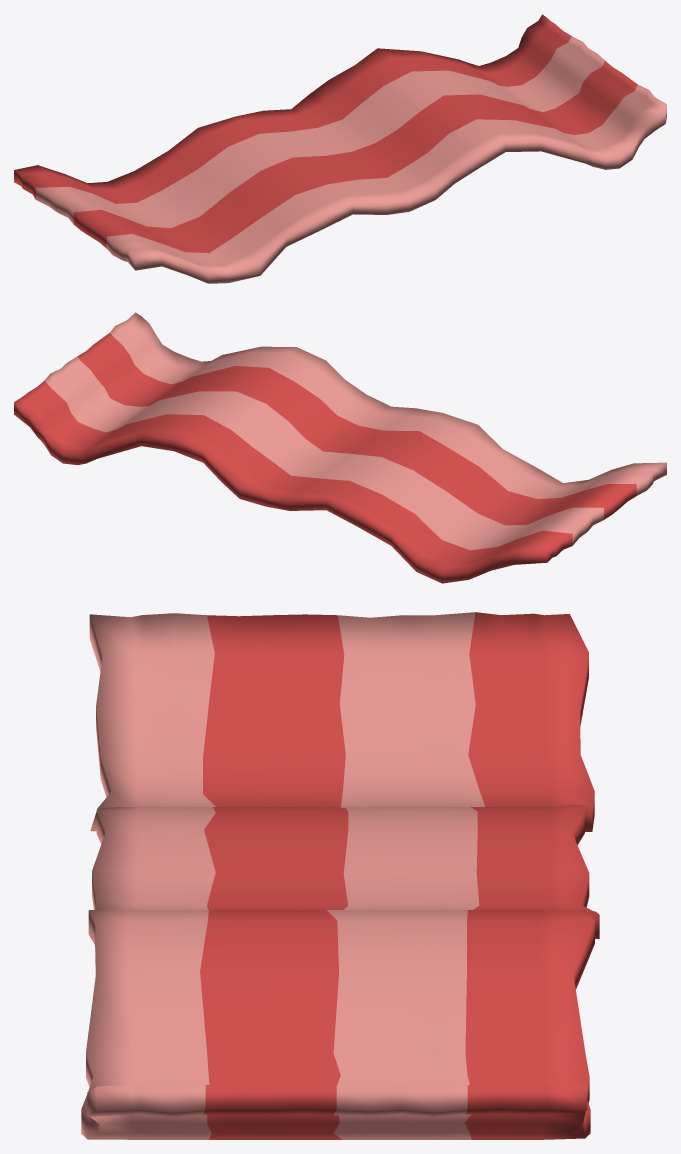
File: bacon.fbx
The picture shows the model from 3 angles, top to bottom: view 1: azimuth 30°, elevation 25°; view 2: azimuth 150°, elevation 25°; view 3: azimuth 270°, elevation 25°; orthographic projection. The views are drawn at different scales.
Visible parts, largest first — view 1: Plane; view 2: Plane; view 3: Plane.
Boxes of the visible parts, x1,y1,x2,y2 form: Plane: (14, 14, 666, 283); Plane: (14, 312, 666, 583); Plane: (81, 612, 599, 1139).
Size of the model in its own units: 470 by 66.72 by 198.
